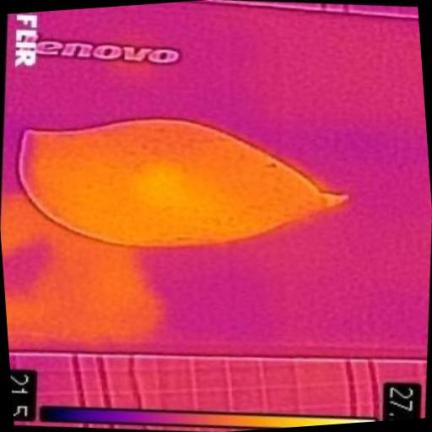mango: (18, 118, 347, 246)
